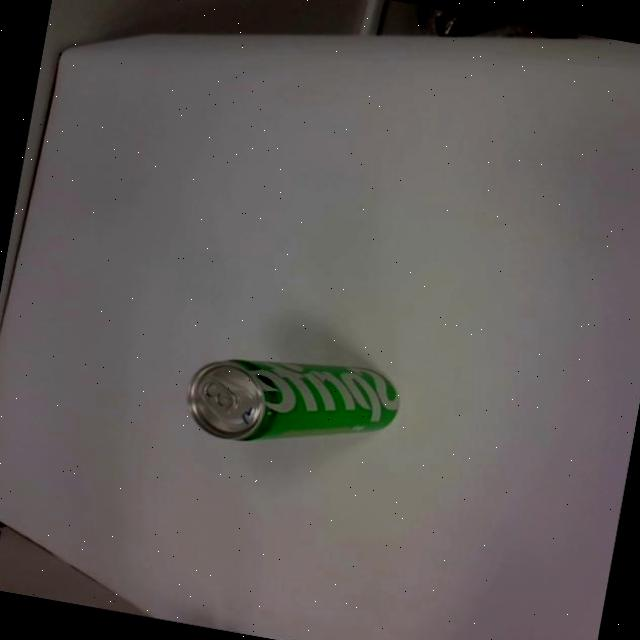debris: (178, 338, 404, 468)
